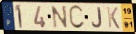1: (14, 4, 24, 30)
4: (33, 4, 47, 29)
C: (68, 5, 86, 31)
J: (91, 6, 103, 29)
K: (106, 7, 121, 30)
N: (50, 5, 69, 30)
